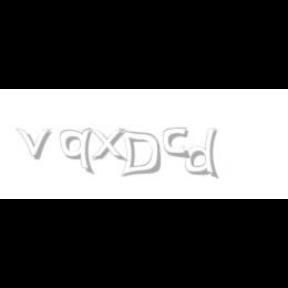D: (118, 128, 162, 178)
c: (162, 128, 192, 160)
d: (186, 128, 222, 180)
q: (60, 128, 96, 176)
v: (15, 128, 55, 160)
x: (89, 128, 131, 162)
